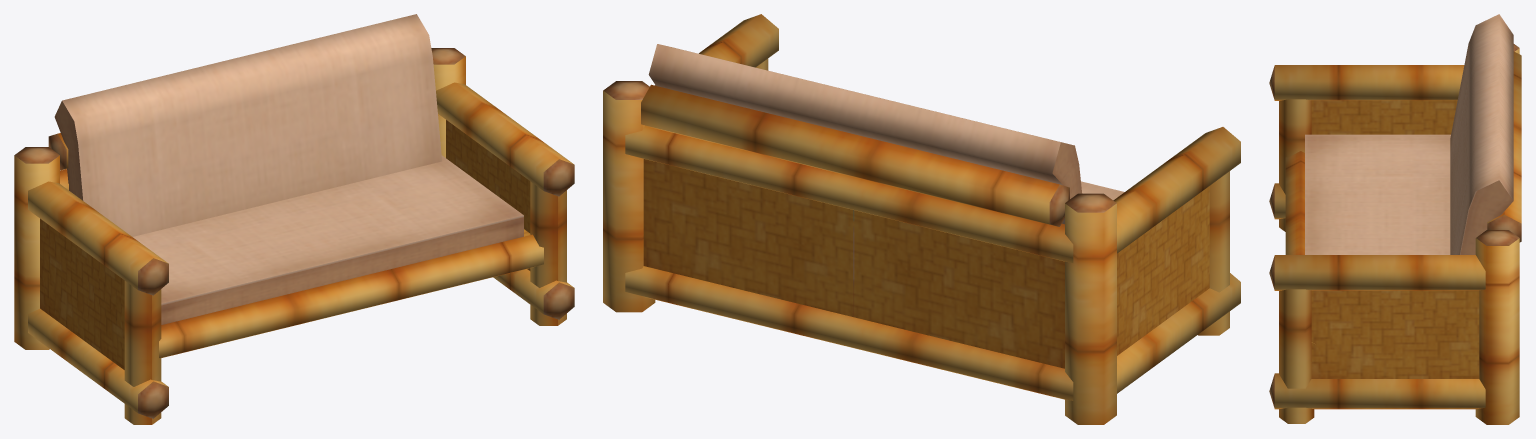
File: Bamboo_Sofa_01.fbx
3 views of the same model, side by side, from view 1: azimuth 30°, elevation 25°; view 2: azimuth 150°, elevation 25°; view 3: azimuth 270°, elevation 25° (orthographic). The views are drawn at different scales.
Parts seen in each view (by area): view 1: Bamboo_Sofa_01; view 2: Bamboo_Sofa_01; view 3: Bamboo_Sofa_01.
Boxes of the visible parts, x1=… form: Bamboo_Sofa_01: x1=14, y1=14, x2=574, y2=424; Bamboo_Sofa_01: x1=603, y1=14, x2=1240, y2=424; Bamboo_Sofa_01: x1=1269, y1=14, x2=1521, y2=424.
Bounding box in the file's own units: 49.47 × 25.18 × 25.61.
